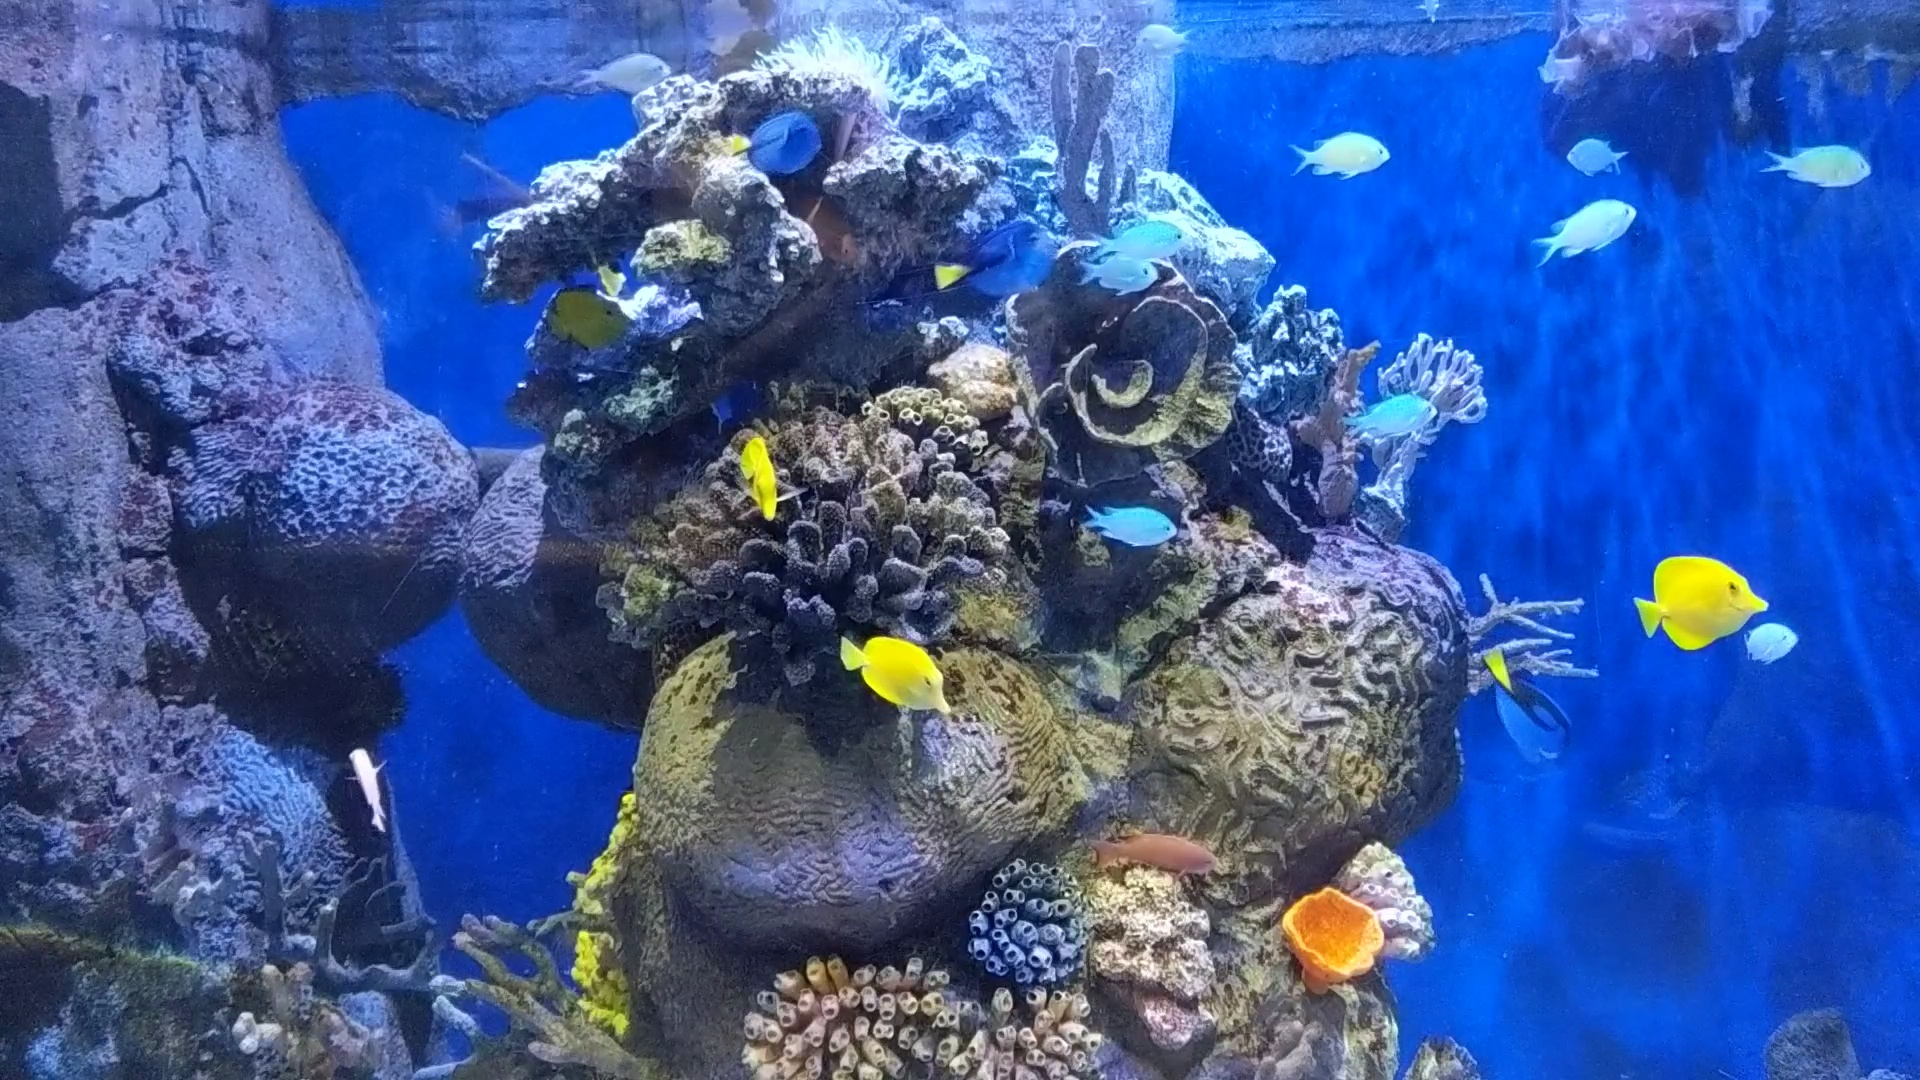blue tang surgeonfish: (1485, 637, 1577, 771), (926, 220, 1064, 295), (733, 113, 837, 178)
damselfish: (1532, 196, 1642, 269), (1758, 135, 1875, 191), (1294, 117, 1396, 181), (1083, 218, 1193, 265), (567, 51, 684, 95), (1342, 394, 1443, 440), (1083, 501, 1179, 549), (1077, 249, 1160, 301), (1564, 127, 1629, 183), (1741, 620, 1803, 676), (1126, 15, 1192, 62)
saddle butterfly fish: (1631, 556, 1772, 647), (837, 622, 952, 723), (546, 284, 642, 349), (731, 429, 785, 522)
